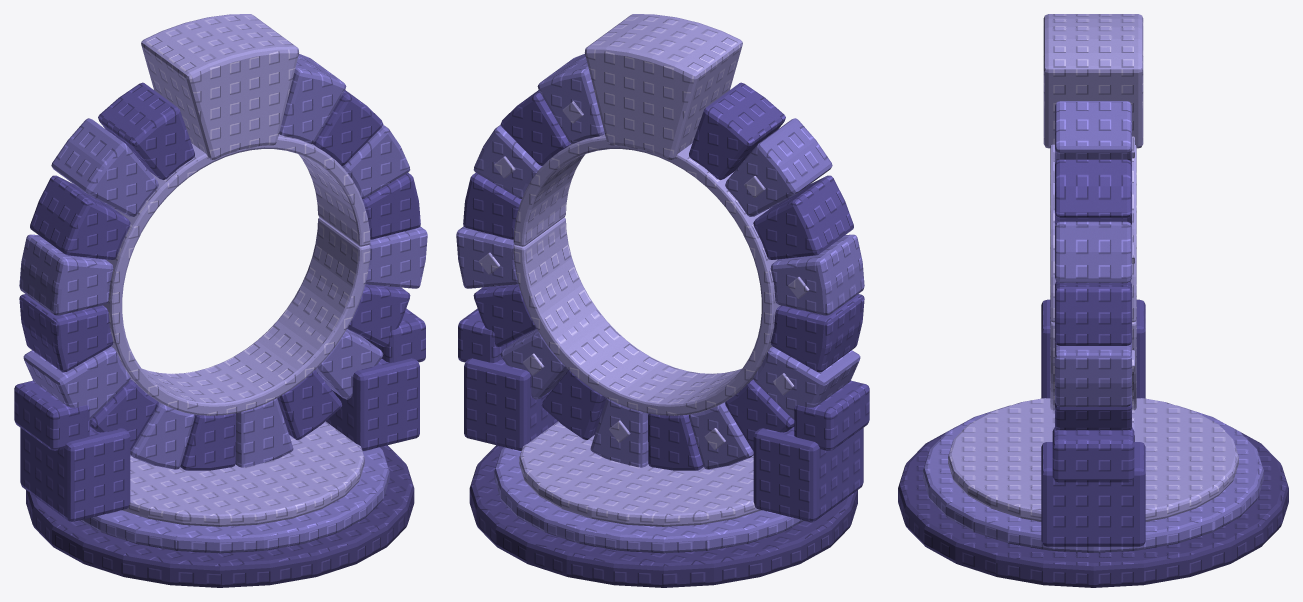
Rendered from Portal.obj.
3 renders of one model, left to right at view 1: azimuth 30°, elevation 25°; view 2: azimuth 150°, elevation 25°; view 3: azimuth 270°, elevation 25°, orthographic.
Visible parts, largest first — view 1: Portal_Ring0, Portal_Ring1, Portal_Trim, Portal_Feet, Portal_Keystone, Portal_Base, Portal_Top, Portal_Step; view 2: Portal_Ring1, Portal_Ring0, Portal_Trim, Portal_Feet, Portal_Keystone, Portal_Base, Portal_Top, Portal_Step, Portal_Runes; view 3: Portal_Top, Portal_Base, Portal_Ring0, Portal_Feet, Portal_Ring1, Portal_Step, Portal_Keystone, Portal_Trim.
Part boxes in pixels (box(x1,y1,x2,y2)): Portal_Ring0: box(19, 54, 427, 469); Portal_Ring1: box(19, 82, 420, 470); Portal_Trim: box(103, 134, 370, 415); Portal_Feet: box(14, 308, 425, 521); Portal_Keystone: box(141, 14, 299, 159); Portal_Base: box(26, 445, 414, 587); Portal_Top: box(122, 421, 364, 526); Portal_Step: box(79, 447, 389, 553); Portal_Ring1: box(463, 82, 864, 470); Portal_Ring0: box(456, 54, 864, 469); Portal_Trim: box(513, 134, 780, 415); Portal_Feet: box(458, 308, 869, 521); Portal_Keystone: box(584, 14, 742, 159); Portal_Base: box(469, 445, 857, 587); Portal_Top: box(519, 421, 761, 526); Portal_Step: box(494, 447, 804, 553); Portal_Runes: box(479, 101, 809, 449); Portal_Top: box(948, 398, 1238, 521); Portal_Base: box(898, 426, 1288, 587); Portal_Ring0: box(1055, 101, 1131, 406); Portal_Feet: box(1041, 299, 1145, 546); Portal_Ring1: box(1055, 159, 1131, 430); Portal_Step: box(923, 405, 1263, 552); Portal_Keystone: box(1043, 14, 1143, 148); Portal_Trim: box(1050, 144, 1136, 410).
Size of the model in its own units: 19.33 by 23.03 by 17.2.
Materials: 4 (4 with a texture image).
